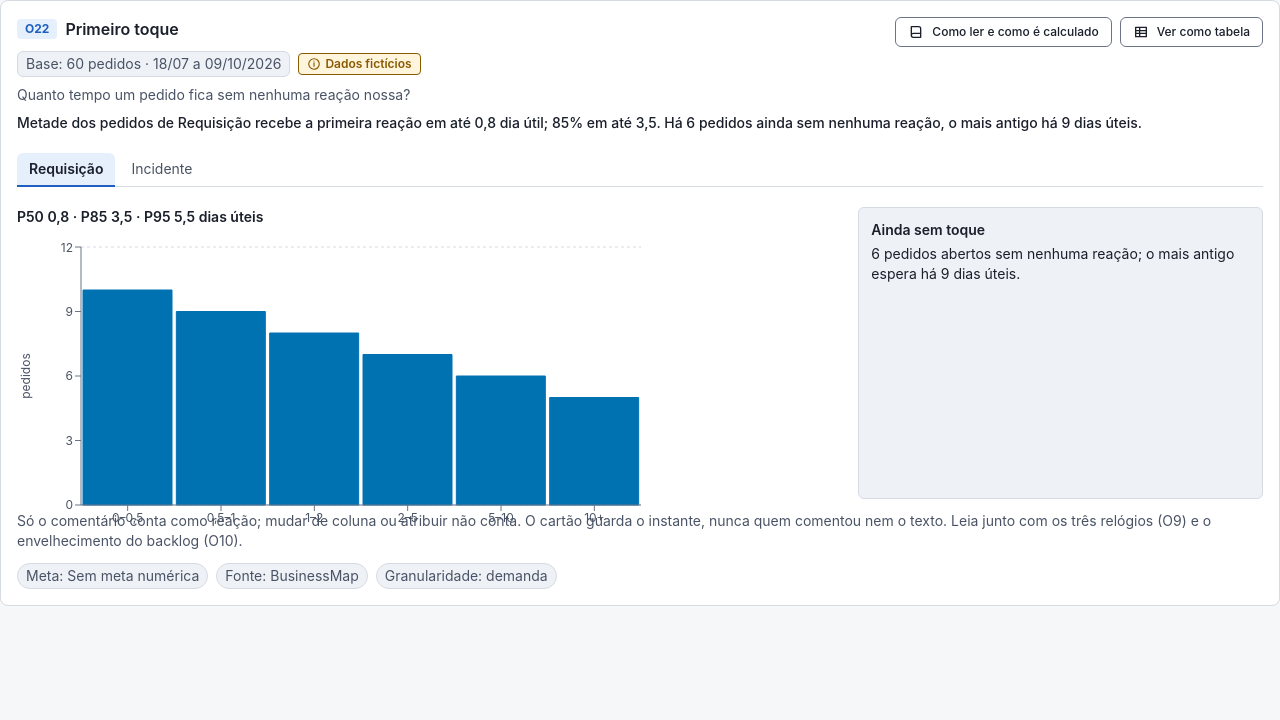
Scenario: O22 Primeiro toque › um tipo por vez, trocado pelo seletor
Click the tab "Incidente".
click(162, 170)  # box 119,153 -> 204,187
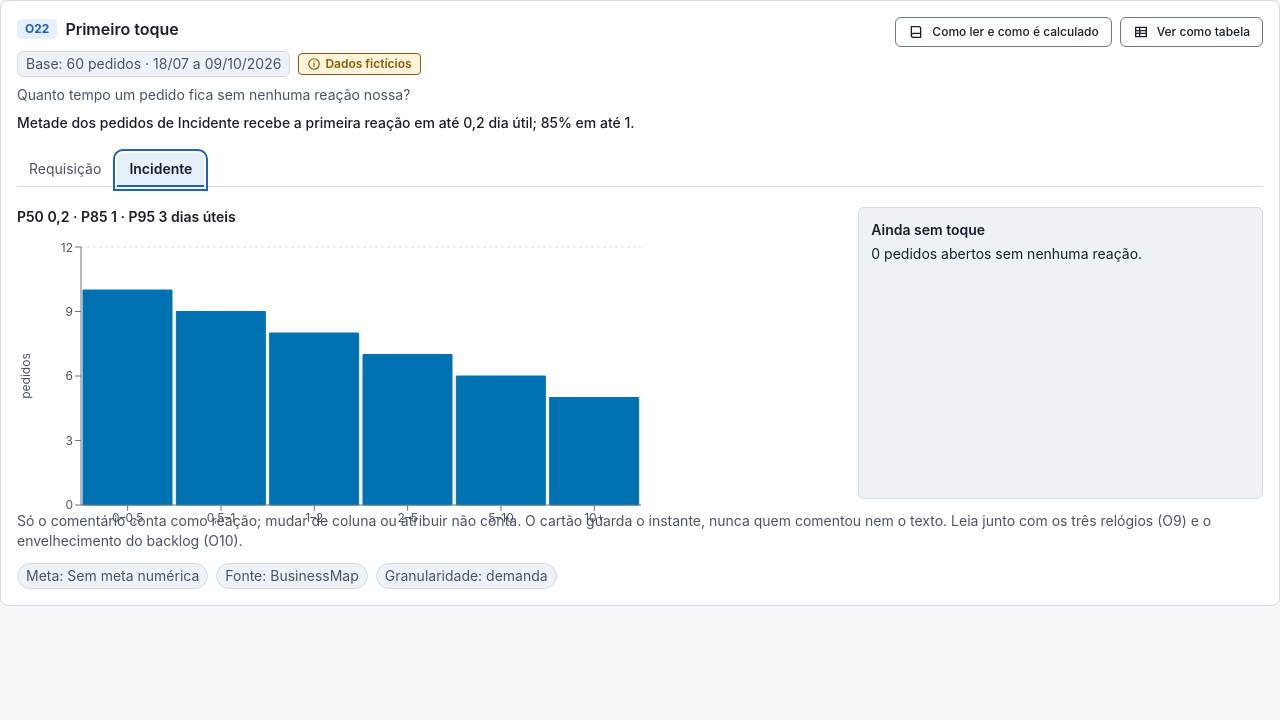
Check: the text with test id "o22-faixa" shows "P50 0,2 · P85 1", box 17,208 -> 236,225
